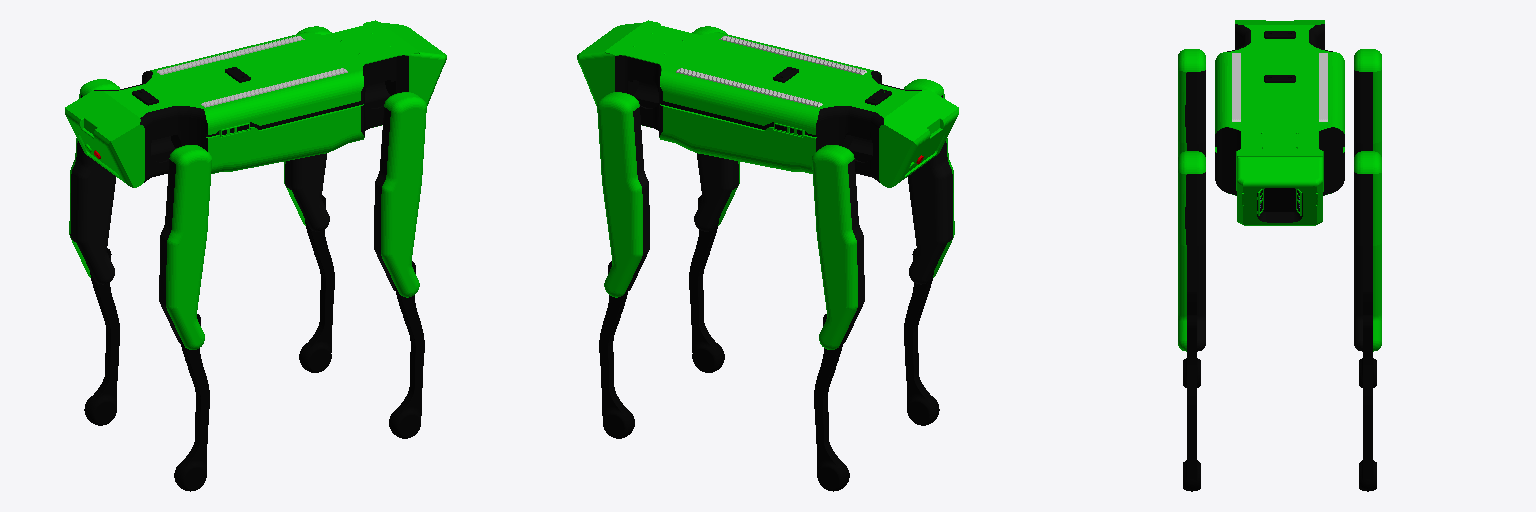
The robot description file, URDF, robot "quadruped_robot":
<?xml version="1.0" ?>
<!-- =================================================================================== -->
<!-- |    This document was autogenerated by xacro from robot.xacro                    | -->
<!-- |    EDITING THIS FILE BY HAND IS NOT RECOMMENDED                                 | -->
<!-- =================================================================================== -->
<robot name="quadruped_robot">
  <!-- =============== Link & Joint =============== -->
  <!-- Base -->
  <link name="trunk">
    <visual>
      <geometry>
        <mesh filename="package://robot_description/meshes/DAE/base/base_link.dae"/>
      </geometry>
    </visual>
    <collision>
      <geometry>
        <mesh filename="package://robot_description/meshes/STL/base/base_link.stl"/>
      </geometry>
    </collision>
    <inertial>
      <origin xyz="-0.1 0 0.09"/>
      <mass value="9.7"/>
      <inertia ixx="0.075" ixy="-0.0017" ixz="-0.0017" iyy="0.4" iyz="-0.0008" izz="0.43"/>
    </inertial>
  </link>
  <joint name="RL_hip_joint" type="revolute">
    <origin rpy="0 1.57079637 -1.57079637" xyz="-0.277 0.06 0.089405"/>
    <parent link="trunk"/>
    <child link="RL_hip"/>
    <limit effort="500" lower="-3.14159" upper="3.14159" velocity="10"/>
    <dynamics damping="0.005" friction="0.1"/>
    <axis xyz="0 -1 0"/>
  </joint>
  <link name="RL_hip">
    <visual>
      <geometry>
        <mesh filename="package://robot_description/meshes/DAE/leg_joint/leg_joint.dae"/>
      </geometry>
    </visual>
    <collision>
      <geometry>
        <mesh filename="package://robot_description/meshes/STL/leg_joint/leg_joint.stl"/>
      </geometry>
    </collision>
    <inertial>
      <origin xyz="0 0 -0.038"/>
      <mass value="1.16"/>
      <inertia ixx="0.002" ixy="0.0" ixz="0.0" iyy="0.002" iyz="0.0" izz="0.001"/>
    </inertial>
  </link>
  <joint name="RR_hip_joint" type="revolute">
    <origin rpy="0 -1.57079637 -1.57079637" xyz="-0.277 -0.06 0.089405"/>
    <parent link="trunk"/>
    <child link="RR_hip"/>
    <limit effort="500" lower="-3.14159" upper="3.14159" velocity="10"/>
    <dynamics damping="0.005" friction="0.1"/>
    <axis xyz="0 1 0"/>
  </joint>
  <link name="RR_hip">
    <visual>
      <geometry>
        <mesh filename="package://robot_description/meshes/DAE/leg_joint/leg_joint.dae"/>
      </geometry>
    </visual>
    <collision>
      <geometry>
        <mesh filename="package://robot_description/meshes/STL/leg_joint/leg_joint.stl"/>
      </geometry>
    </collision>
    <inertial>
      <origin xyz="0 0 -0.038"/>
      <mass value="1.16"/>
      <inertia ixx="0.002" ixy="0.0" ixz="0.0" iyy="0.002" iyz="0.0" izz="0.001"/>
    </inertial>
  </link>
  <joint name="FL_hip_joint" type="revolute">
    <origin rpy="0 1.57079637 -1.57079637" xyz="0.282 0.06 0.090255"/>
    <parent link="trunk"/>
    <child link="FL_hip"/>
    <limit effort="500" lower="-3.14159" upper="3.14159" velocity="10"/>
    <dynamics damping="0.005" friction="0.1"/>
    <axis xyz="0 -1 0"/>
  </joint>
  <link name="FL_hip">
    <visual>
      <geometry>
        <mesh filename="package://robot_description/meshes/DAE/leg_joint/leg_joint.dae"/>
      </geometry>
    </visual>
    <collision>
      <geometry>
        <mesh filename="package://robot_description/meshes/STL/leg_joint/leg_joint.stl"/>
      </geometry>
    </collision>
    <inertial>
      <origin xyz="0 0 -0.038"/>
      <mass value="1.16"/>
      <inertia ixx="0.002" ixy="0.0" ixz="0.0" iyy="0.002" iyz="0.0" izz="0.001"/>
    </inertial>
  </link>
  <joint name="FR_hip_joint" type="revolute">
    <origin rpy="0 -1.57079637 -1.57079637" xyz="0.282 -0.06 0.090255"/>
    <parent link="trunk"/>
    <child link="FR_hip"/>
    <limit effort="500" lower="-3.14159" upper="3.14159" velocity="10"/>
    <dynamics damping="0.005" friction="0.1"/>
    <axis xyz="0 1 0"/>
  </joint>
  <link name="FR_hip">
    <visual>
      <geometry>
        <mesh filename="package://robot_description/meshes/DAE/leg_joint/leg_joint.dae"/>
      </geometry>
    </visual>
    <collision>
      <geometry>
        <mesh filename="package://robot_description/meshes/STL/leg_joint/leg_joint.stl"/>
      </geometry>
    </collision>
    <inertial>
      <origin xyz="0 0 -0.038"/>
      <mass value="1.16"/>
      <inertia ixx="0.002" ixy="0.0" ixz="0.0" iyy="0.002" iyz="0.0" izz="0.001"/>
    </inertial>
  </link>
  <joint name="FL_thigh_joint" type="revolute">
    <origin rpy="1.57079637 0 0" xyz="0 0 -0.114"/>
    <parent link="FL_hip"/>
    <child link="FL_thigh"/>
    <limit effort="500" lower="-3" upper="3" velocity="10"/>
    <dynamics damping="0.005" friction="0.1"/>
    <axis xyz="0 1 0"/>
  </joint>
  <link name="FL_thigh">
    <visual>
      <geometry>
        <mesh filename="package://robot_description/meshes/DAE/left_thigh/left_thigh.dae"/>
      </geometry>
    </visual>
    <collision>
      <geometry>
        <mesh filename="package://robot_description/meshes/STL/left_thigh/left_thigh.stl"/>
      </geometry>
    </collision>
    <inertial>
      <origin xyz="0.17 -0.028 0.014"/>
      <mass value="1.24"/>
      <inertia ixx="0.002" ixy="0" ixz="0" iyy="0.002" iyz="0" izz="0.001"/>
      <!-- inertia ixx="-0.5" ixy="0.003" ixz="0.145" iyy="-0.496" iyz="-0.0096" izz="0.012" -->
    </inertial>
  </link>
  <joint name="RL_thigh_joint" type="revolute">
    <origin rpy="1.57079637 0 0" xyz="0 0 -0.114"/>
    <parent link="RL_hip"/>
    <child link="RL_thigh"/>
    <limit effort="500" lower="-3" upper="3" velocity="10"/>
    <dynamics damping="0.005" friction="0.1"/>
    <axis xyz="0 1 0"/>
  </joint>
  <link name="RL_thigh">
    <visual>
      <geometry>
        <mesh filename="package://robot_description/meshes/DAE/left_thigh/left_thigh.dae"/>
      </geometry>
    </visual>
    <collision>
      <geometry>
        <mesh filename="package://robot_description/meshes/STL/left_thigh/left_thigh.stl"/>
      </geometry>
    </collision>
    <inertial>
      <origin xyz="0.17 -0.028 0.014"/>
      <mass value="1.24"/>
      <inertia ixx="0.002" ixy="0" ixz="0" iyy="0.002" iyz="0" izz="0.001"/>
      <!-- inertia ixx="-0.5" ixy="0.003" ixz="0.145" iyy="-0.496" iyz="-0.0096" izz="0.012" -->
    </inertial>
  </link>
  <joint name="FR_thigh_joint" type="revolute">
    <origin rpy="1.57079637 0 3.14159274" xyz="0 0 -0.114"/>
    <parent link="FR_hip"/>
    <child link="FR_thigh"/>
    <limit effort="500" lower="-3" upper="3" velocity="10"/>
    <dynamics damping="0.005" friction="0.1"/>
    <axis xyz="0 -1 0"/>
  </joint>
  <link name="FR_thigh">
    <visual>
      <geometry>
        <mesh filename="package://robot_description/meshes/DAE/right_thigh/right_thigh.dae"/>
      </geometry>
    </visual>
    <collision>
      <geometry>
        <mesh filename="package://robot_description/meshes/STL/right_thigh/right_thigh.stl"/>
      </geometry>
    </collision>
    <inertial>
      <origin xyz="0.17 -0.028 -0.014"/>
      <mass value="1.24"/>
      <inertia ixx="0.002" ixy="0.0" ixz="0.0" iyy="0.002" iyz="0.0" izz="0.001"/>
      <!--inertia ixx="-0.44" ixy="0.012" ixz="0.14" iyy="-0.423" iyz="0.0217" izz="0.0135" -->
    </inertial>
  </link>
  <joint name="RR_thigh_joint" type="revolute">
    <origin rpy="1.57079637 0 3.14159274" xyz="0 0 -0.114"/>
    <parent link="RR_hip"/>
    <child link="RR_thigh"/>
    <limit effort="500" lower="-3" upper="3" velocity="10"/>
    <dynamics damping="0.005" friction="0.1"/>
    <axis xyz="0 -1 0"/>
  </joint>
  <link name="RR_thigh">
    <visual>
      <geometry>
        <mesh filename="package://robot_description/meshes/DAE/right_thigh/right_thigh.dae"/>
      </geometry>
    </visual>
    <collision>
      <geometry>
        <mesh filename="package://robot_description/meshes/STL/right_thigh/right_thigh.stl"/>
      </geometry>
    </collision>
    <inertial>
      <origin xyz="0.17 -0.028 -0.014"/>
      <mass value="1.24"/>
      <inertia ixx="0.002" ixy="0.0" ixz="0.0" iyy="0.002" iyz="0.0" izz="0.001"/>
      <!--inertia ixx="-0.44" ixy="0.012" ixz="0.14" iyy="-0.423" iyz="0.0217" izz="0.0135" -->
    </inertial>
  </link>
  <joint name="FL_calf_joint" type="revolute">
    <origin rpy="0 3.14159274 0" xyz="0.426 -0.0285 0"/>
    <parent link="FL_thigh"/>
    <child link="FL_calf"/>
    <limit effort="500" lower="-3.14159" upper="3.14159" velocity="10"/>
    <dynamics damping="0.005" friction="0.1"/>
    <axis xyz="0 1 0"/>
  </joint>
  <link name="FL_calf">
    <visual>
      <geometry>
        <mesh filename="package://robot_description/meshes/DAE/shin/shin.dae"/>
      </geometry>
    </visual>
    <collision>
      <geometry>
        <mesh filename="package://robot_description/meshes/STL/shin/shin.stl"/>
      </geometry>
    </collision>
    <inertial>
      <origin xyz="-0.158 0.011 0.0"/>
      <mass value="0.66"/>
      <inertia ixx="0.0003" ixy="0.0013" ixz="0.000045" iyy="0.029" iyz="-0.000003" izz="0.029"/>
    </inertial>
  </link>
  <joint name="RL_calf_joint" type="revolute">
    <origin rpy="0 3.14159274 0" xyz="0.426 -0.0285 0"/>
    <parent link="RL_thigh"/>
    <child link="RL_calf"/>
    <limit effort="500" lower="-3.14159" upper="3.14159" velocity="10"/>
    <dynamics damping="0.005" friction="0.1"/>
    <axis xyz="0 1 0"/>
  </joint>
  <link name="RL_calf">
    <visual>
      <geometry>
        <mesh filename="package://robot_description/meshes/DAE/shin/shin.dae"/>
      </geometry>
    </visual>
    <collision>
      <geometry>
        <mesh filename="package://robot_description/meshes/STL/shin/shin.stl"/>
      </geometry>
    </collision>
    <inertial>
      <origin xyz="-0.158 0.011 0.0"/>
      <mass value="0.66"/>
      <inertia ixx="0.0003" ixy="0.0013" ixz="0.000045" iyy="0.029" iyz="-0.000003" izz="0.029"/>
    </inertial>
  </link>
  <joint name="FR_calf_joint" type="revolute">
    <origin rpy="3.14159274 3.14159274 0" xyz="0.426 -0.0285 0"/>
    <parent link="FR_thigh"/>
    <child link="FR_calf"/>
    <limit effort="500" lower="-3.14159" upper="3.14159" velocity="10"/>
    <dynamics damping="0.005" friction="0.1"/>
    <axis xyz="0 1 0"/>
  </joint>
  <link name="FR_calf">
    <visual>
      <geometry>
        <mesh filename="package://robot_description/meshes/DAE/shin/shin.dae"/>
      </geometry>
    </visual>
    <collision>
      <geometry>
        <mesh filename="package://robot_description/meshes/STL/shin/shin.stl"/>
      </geometry>
    </collision>
    <inertial>
      <origin xyz="-0.158 0.011 0.0"/>
      <mass value="0.66"/>
      <inertia ixx="0.0003" ixy="0.0013" ixz="0.000045" iyy="0.029" iyz="-0.000003" izz="0.029"/>
    </inertial>
  </link>
  <joint name="RR_calf_joint" type="revolute">
    <origin rpy="3.14159274 3.14159274 0" xyz="0.426 -0.0285 0"/>
    <parent link="RR_thigh"/>
    <child link="RR_calf"/>
    <limit effort="500" lower="-3.14159" upper="3.14159" velocity="10"/>
    <dynamics damping="0.005" friction="0.1"/>
    <axis xyz="0 1 0"/>
  </joint>
  <link name="RR_calf">
    <visual>
      <geometry>
        <mesh filename="package://robot_description/meshes/DAE/shin/shin.dae"/>
      </geometry>
    </visual>
    <collision>
      <geometry>
        <mesh filename="package://robot_description/meshes/STL/shin/shin.stl"/>
      </geometry>
    </collision>
    <inertial>
      <origin xyz="-0.158 0.011 0.0"/>
      <mass value="0.66"/>
      <inertia ixx="0.0003" ixy="0.0013" ixz="0.000045" iyy="0.029" iyz="-0.000003" izz="0.029"/>
    </inertial>
  </link>
  <joint name="FL_foot_fixed" type="fixed">
    <origin rpy="0 0 0" xyz="-0.345 0 0"/>
    <parent link="FL_calf"/>
    <child link="FL_foot"/>
  </joint>
  <link name="FL_foot">
    <visual>
      <geometry>
        <mesh filename="package://robot_description/meshes/DAE/foot/foot.dae"/>
      </geometry>
    </visual>
    <collision>
      <geometry>
        <mesh filename="package://robot_description/meshes/STL/foot/foot.stl"/>
      </geometry>
    </collision>
    <inertial>
      <origin xyz="0.0 0.0 0.0"/>
      <mass value="0.015"/>
      <inertia ixx="0.000001349" ixy="0.0" ixz="0.0" iyy="0.000001349" iyz="0.0" izz="0.000001349"/>
    </inertial>
  </link>
  <joint name="RL_foot_fixed" type="fixed">
    <origin rpy="0 0 0" xyz="-0.345 0 0"/>
    <parent link="RL_calf"/>
    <child link="RL_foot"/>
  </joint>
  <link name="RL_foot">
    <visual>
      <geometry>
        <mesh filename="package://robot_description/meshes/DAE/foot/foot.dae"/>
      </geometry>
    </visual>
    <collision>
      <geometry>
        <mesh filename="package://robot_description/meshes/STL/foot/foot.stl"/>
      </geometry>
    </collision>
    <inertial>
      <origin xyz="0.0 0.0 0.0"/>
      <mass value="0.015"/>
      <inertia ixx="0.000001349" ixy="0.0" ixz="0.0" iyy="0.000001349" iyz="0.0" izz="0.000001349"/>
    </inertial>
  </link>
  <joint name="FR_foot_fixed" type="fixed">
    <origin rpy="0 0 0" xyz="-0.345 0 0"/>
    <parent link="FR_calf"/>
    <child link="FR_foot"/>
  </joint>
  <link name="FR_foot">
    <visual>
      <geometry>
        <mesh filename="package://robot_description/meshes/DAE/foot/foot.dae"/>
      </geometry>
    </visual>
    <collision>
      <geometry>
        <mesh filename="package://robot_description/meshes/STL/foot/foot.stl"/>
      </geometry>
    </collision>
    <inertial>
      <origin xyz="0.0 0.0 0.0"/>
      <mass value="0.015"/>
      <inertia ixx="0.000001349" ixy="0.0" ixz="0.0" iyy="0.000001349" iyz="0.0" izz="0.000001349"/>
    </inertial>
  </link>
  <joint name="RR_foot_fixed" type="fixed">
    <origin rpy="0 0 0" xyz="-0.345 0 0"/>
    <parent link="RR_calf"/>
    <child link="RR_foot"/>
  </joint>
  <link name="RR_foot">
    <visual>
      <geometry>
        <mesh filename="package://robot_description/meshes/DAE/foot/foot.dae"/>
      </geometry>
    </visual>
    <collision>
      <geometry>
        <mesh filename="package://robot_description/meshes/STL/foot/foot.stl"/>
      </geometry>
    </collision>
    <inertial>
      <origin xyz="0.0 0.0 0.0"/>
      <mass value="0.015"/>
      <inertia ixx="0.000001349" ixy="0.0" ixz="0.0" iyy="0.000001349" iyz="0.0" izz="0.000001349"/>
    </inertial>
  </link>
</robot>

--- Facts derived from the render (not from the file) ---
Views: 3 orthographic renders of the robot side by side, from view 1: azimuth 30°, elevation 25°; view 2: azimuth 150°, elevation 25°; view 3: azimuth 270°, elevation 25°.
Robot: quadruped_robot — 17 links, 16 joints (12 revolute, 4 fixed); root link trunk; default pose: every joint at zero.
Visible links, largest first — view 1: trunk, FR_thigh, RR_thigh, RL_thigh, FL_thigh, RR_calf, FL_calf, FR_calf, RL_calf; view 2: trunk, FL_thigh, RL_thigh, RR_thigh, FR_thigh, RL_calf, FR_calf, FL_calf, RR_calf; view 3: trunk, FL_thigh, FR_thigh, RL_thigh, RR_thigh, FL_calf, FR_calf.
Link boxes in pixels (x1,y1,x2,y2): trunk: [65, 20, 446, 187]; FR_thigh: [374, 92, 426, 297]; RR_thigh: [159, 145, 211, 349]; RL_thigh: [69, 79, 119, 284]; FL_thigh: [284, 26, 331, 231]; RR_calf: [174, 314, 209, 491]; FL_calf: [299, 195, 334, 372]; FR_calf: [389, 261, 424, 438]; RL_calf: [84, 248, 119, 425]; trunk: [577, 20, 958, 187]; FL_thigh: [597, 92, 649, 297]; RL_thigh: [812, 145, 864, 349]; RR_thigh: [904, 79, 954, 284]; FR_thigh: [692, 26, 739, 231]; RL_calf: [814, 314, 849, 491]; FR_calf: [689, 195, 724, 372]; FL_calf: [599, 261, 634, 438]; RR_calf: [904, 248, 939, 425]; trunk: [1215, 20, 1344, 225]; FL_thigh: [1354, 151, 1381, 351]; FR_thigh: [1178, 151, 1205, 351]; RL_thigh: [1354, 49, 1381, 156]; RR_thigh: [1178, 49, 1205, 156]; FL_calf: [1359, 315, 1376, 491]; FR_calf: [1183, 315, 1200, 491].
Size in the robot's own frame: 0.8907 by 0.47 by 0.8986 metres.
Meshes: 6 distinct files referenced, 13 mesh visuals loaded (5 Collada DAE); not drawn: 4 (reference not matched to a file when rendering).
